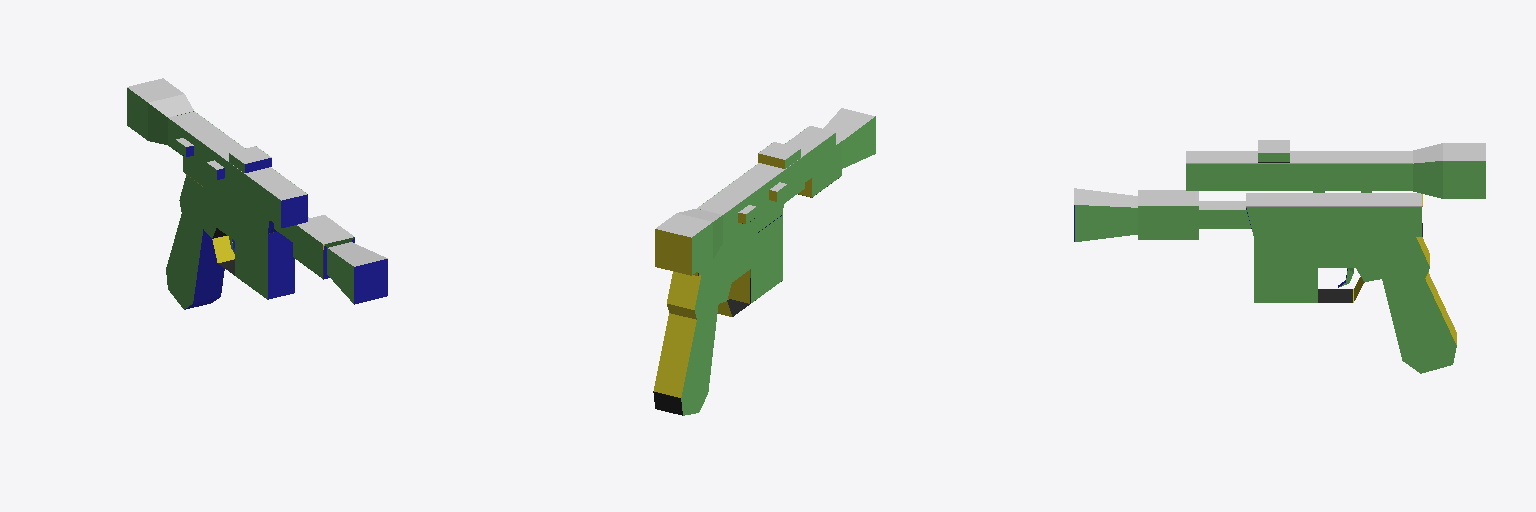
3 views of the same model, side by side, from view 1: azimuth 30°, elevation 25°; view 2: azimuth 150°, elevation 25°; view 3: azimuth 270°, elevation 25° (orthographic).
Parts seen in each view (by area): view 1: dl44model; view 2: dl44model; view 3: dl44model.
Boxes of the visible parts, x1,y1,x2,y2 form: dl44model: [127, 78, 387, 309]; dl44model: [653, 108, 875, 415]; dl44model: [1074, 140, 1485, 373].
Bounding box in the file's own units: 0.2709 × 0.9265 × 1.64.
1 materials, 1 textured.